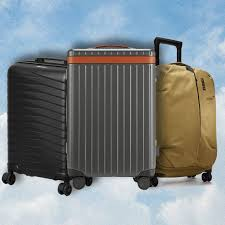suitcase: (62, 44, 159, 192), (151, 37, 216, 183), (3, 58, 71, 196)
